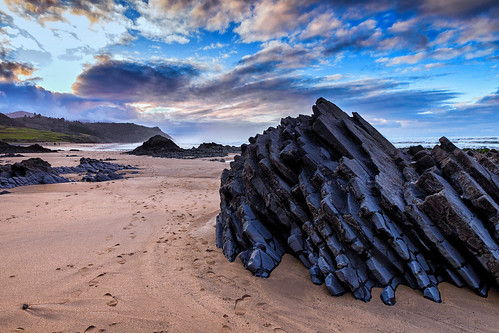beach: (1, 160, 227, 333)
mountain: (1, 108, 163, 132)
rocks: (234, 124, 499, 304)
sky: (5, 1, 497, 111)
